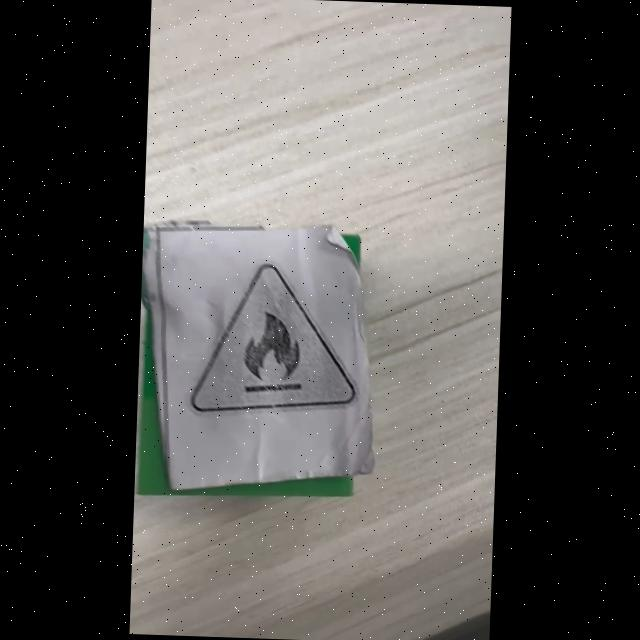Fire: (191, 264, 355, 411)
